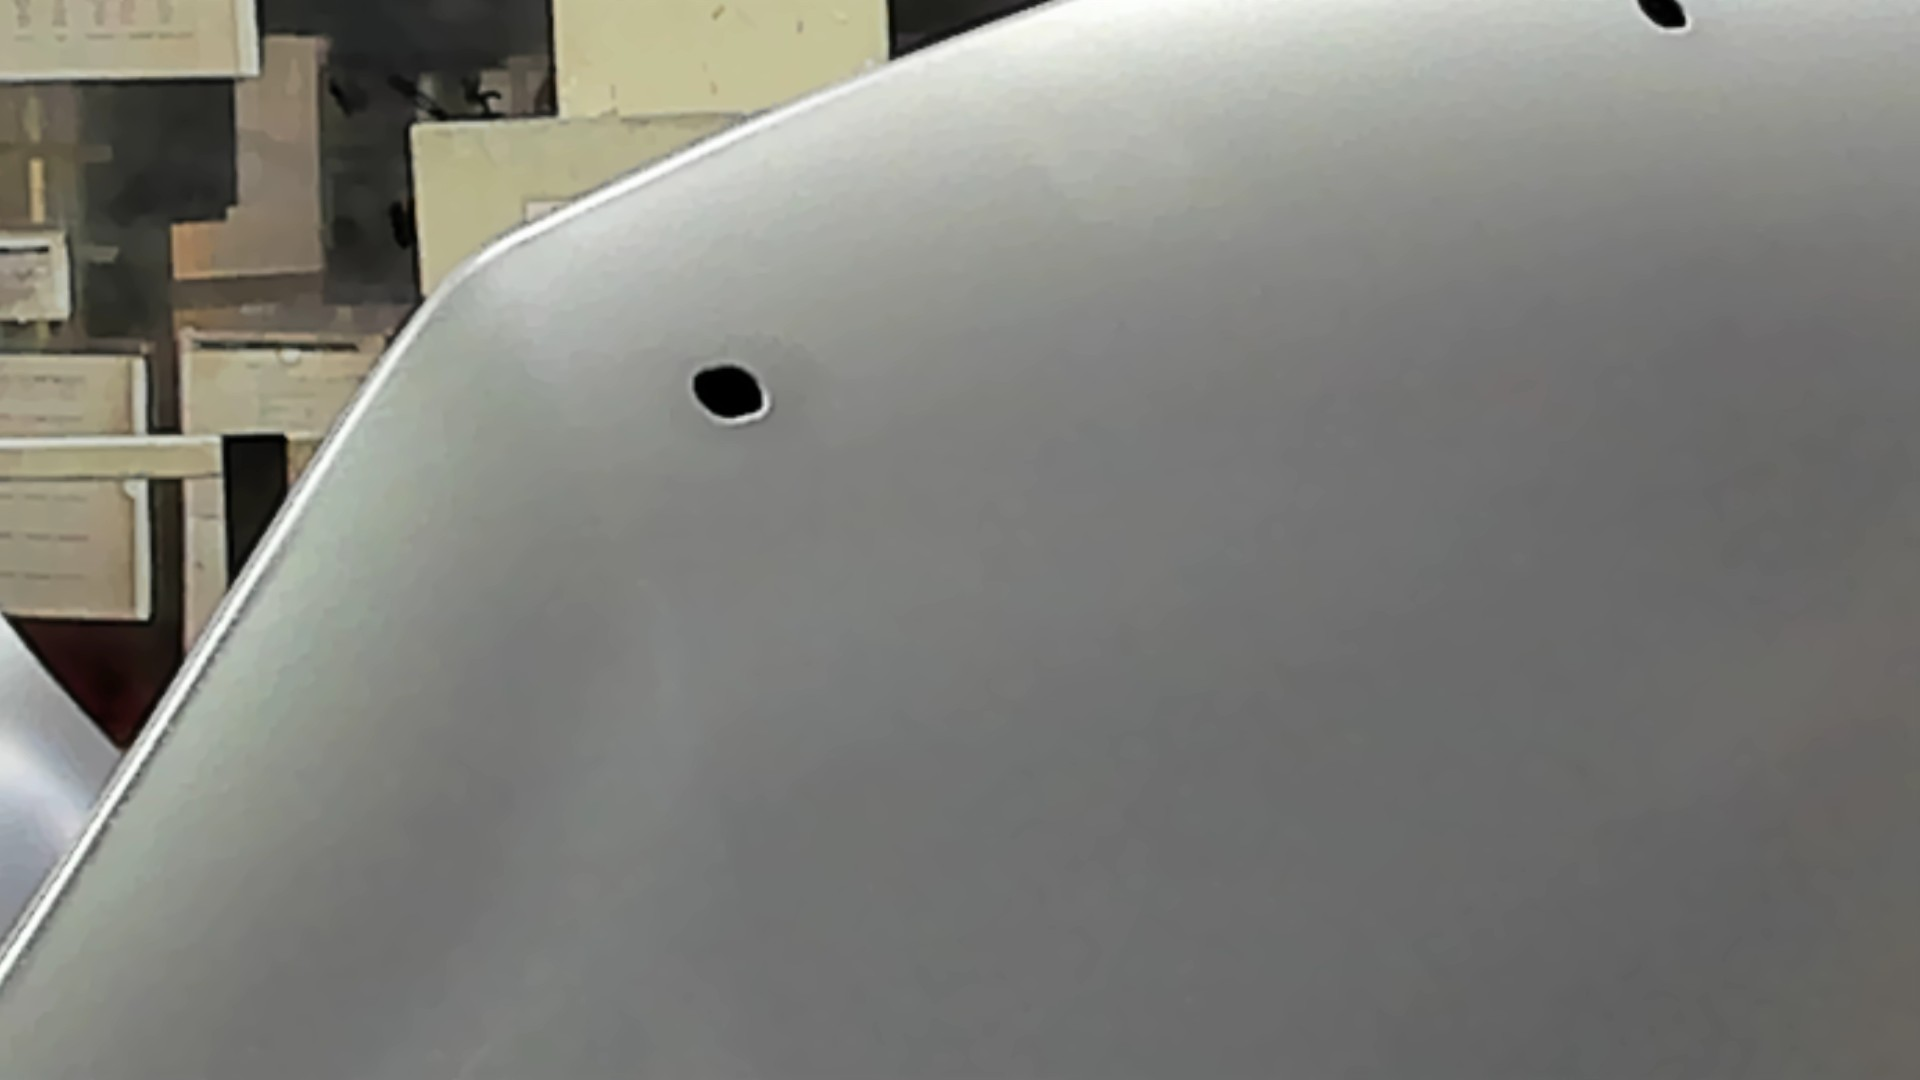amorfo: (684, 361, 770, 431), (1629, 1, 1696, 36)
capo: (891, 95, 1920, 1080)
